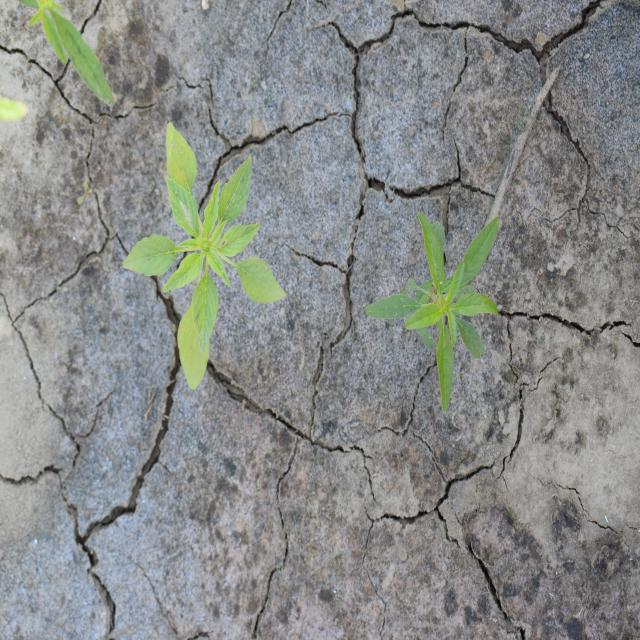PalmerAmaranth: (120, 120, 289, 392)
Waterhemp: (363, 208, 502, 416), (18, 1, 116, 109)
